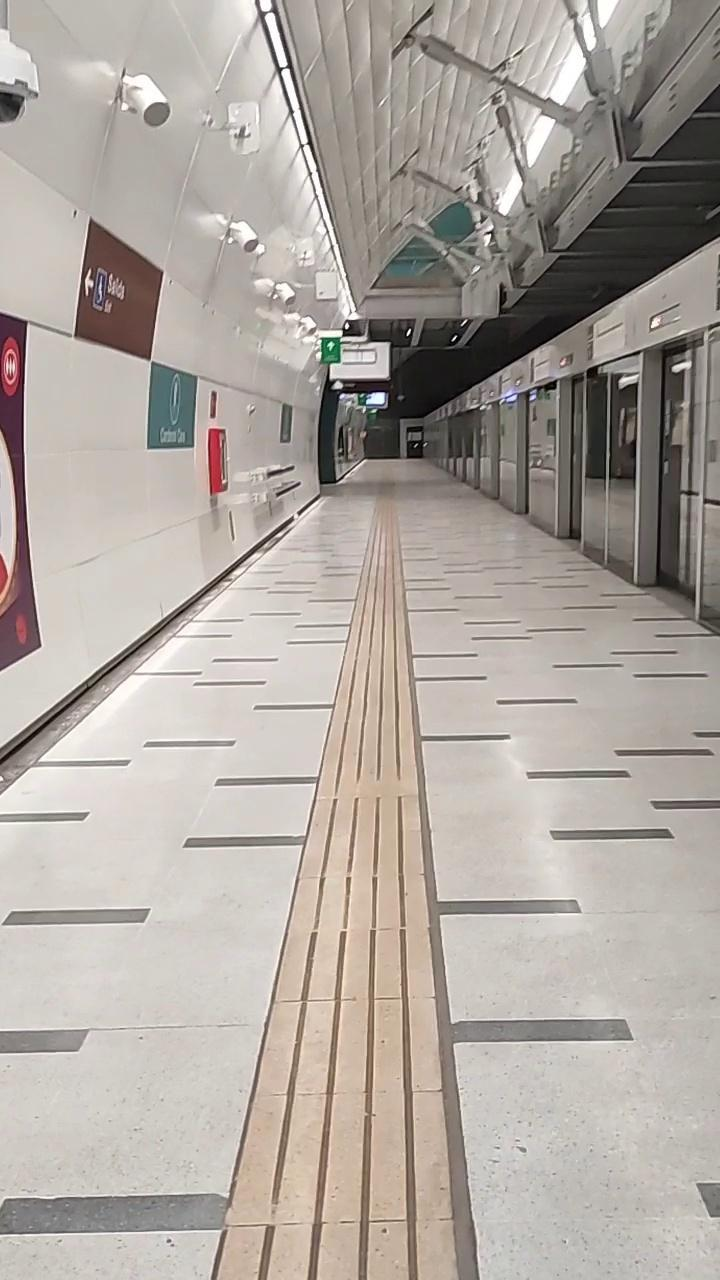handicapped symbol: (94, 277, 108, 304)
left arrow: (80, 270, 98, 296)
